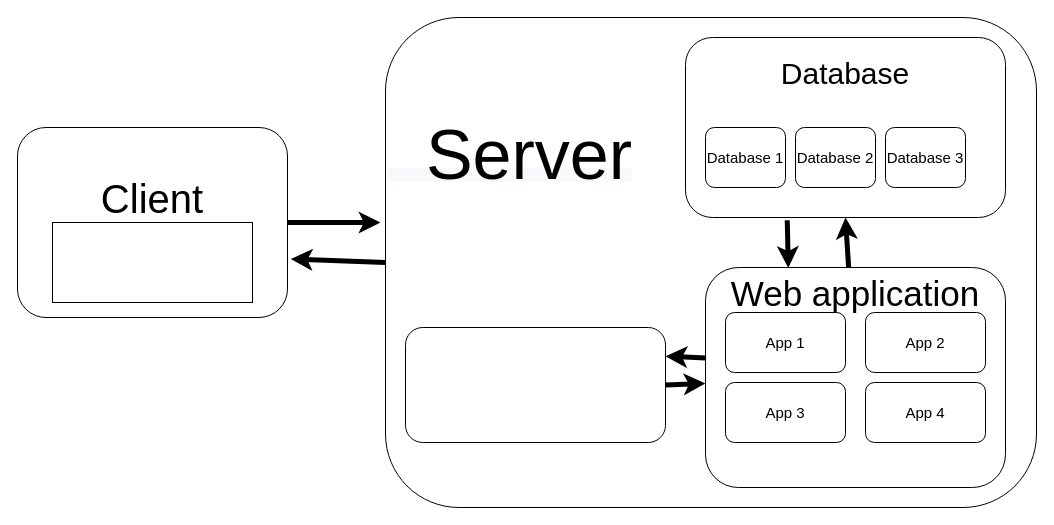
The diagram is 1054 pixels wide and 525 high, and some of its shapes have lost their labels. The centre of each missing label's shape, as x and y in pixels:
"Trình duyệt" goes at (152,262).
"Web server apache, nginx ..." goes at (535,384).
